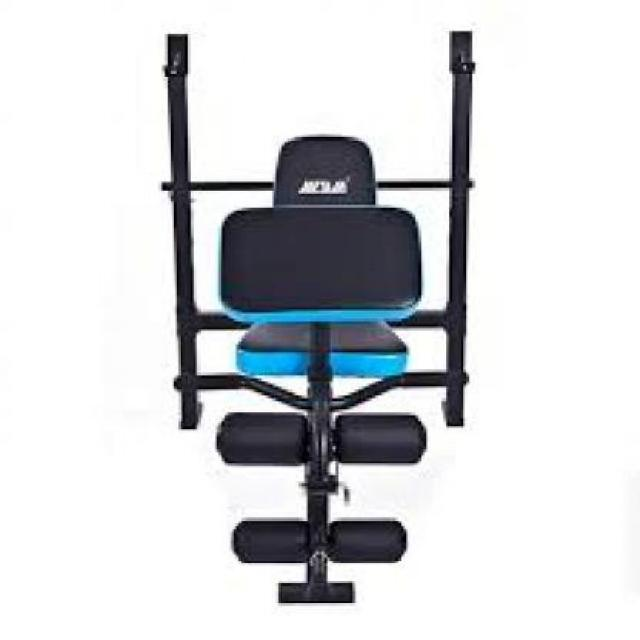arm curl machine: (158, 32, 477, 608)
